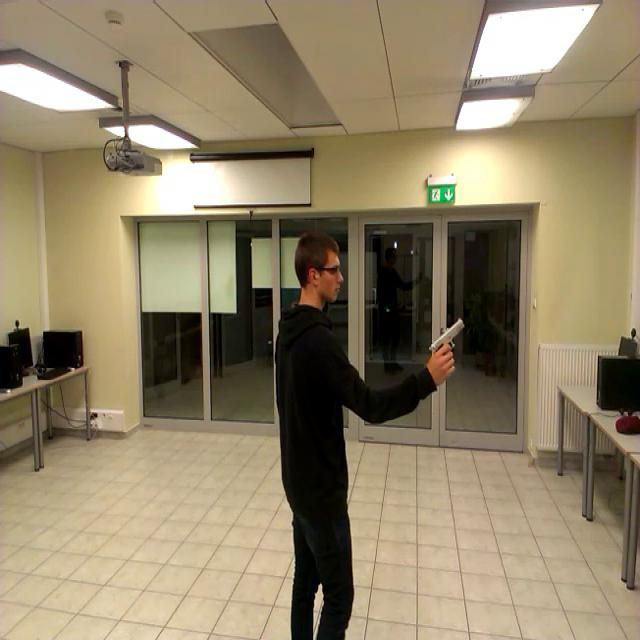handgun: (426, 308, 467, 373)
